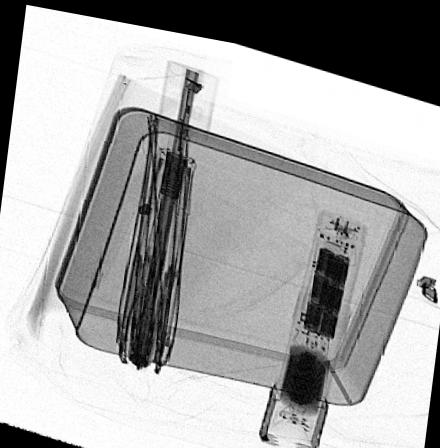Baton: (256, 195, 368, 447)
